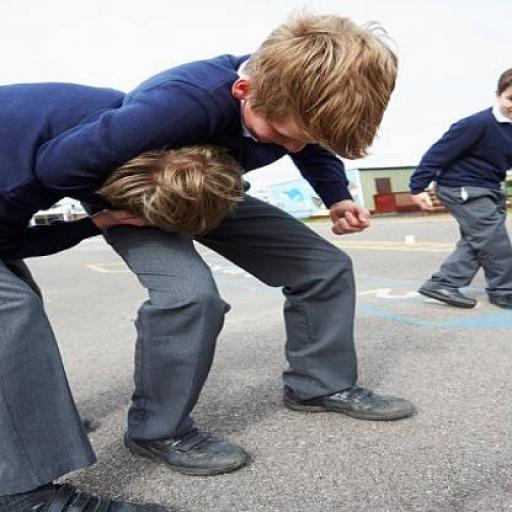Fighting: (0, 15, 407, 510)
